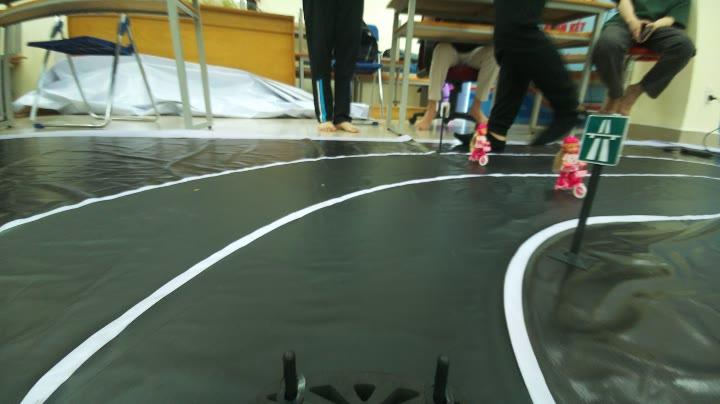highway_entry: (580, 113, 629, 166)
